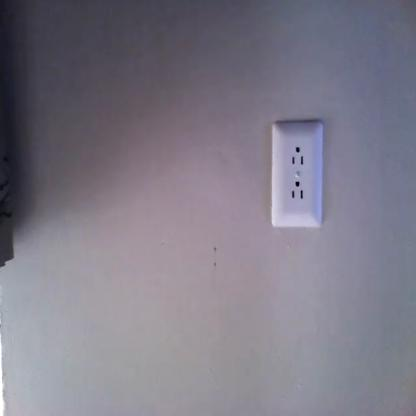OUTLET: (270, 121, 325, 228)
